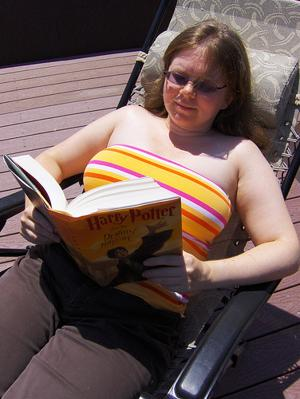person: (2, 21, 300, 397)
